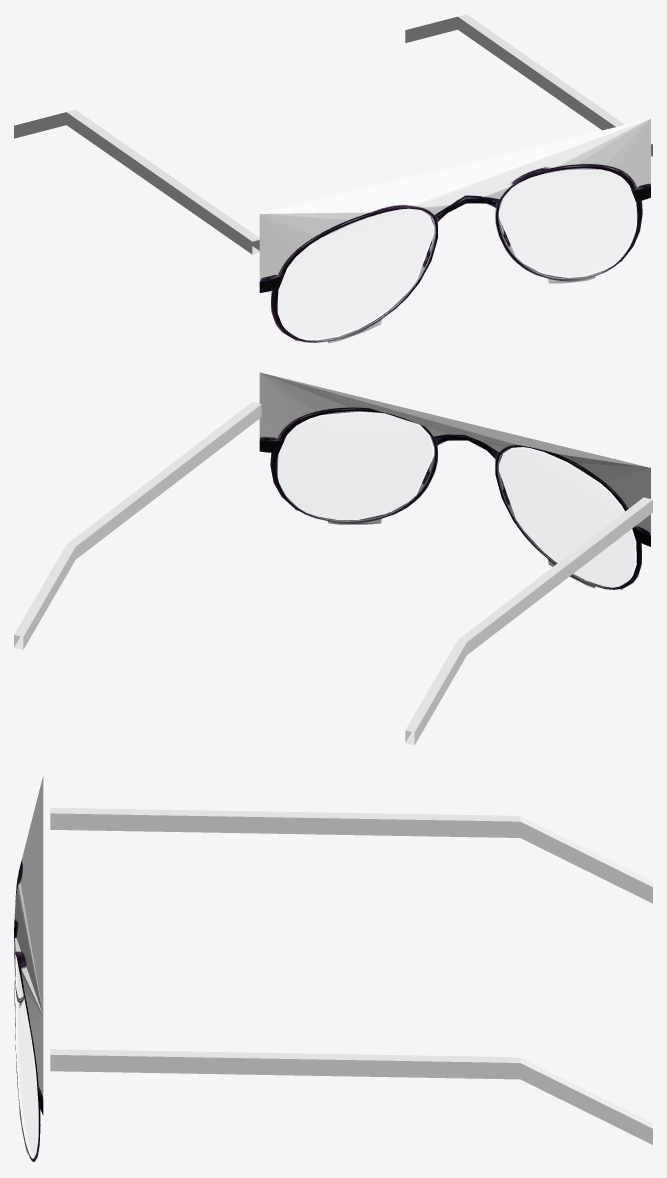
File: gothamstyle-stainless-31_black.glb
3 views of the same model, one above another, from view 1: azimuth 30°, elevation 25°; view 2: azimuth 150°, elevation 25°; view 3: azimuth 270°, elevation 25° (orthographic). The views are drawn at different scales.
Visible parts, largest first — view 1: frame_front, temple_viewer_left, temple_viewer_right; view 2: frame_front, temple_viewer_left, temple_viewer_right; view 3: temple_viewer_right, temple_viewer_left, frame_front.
Part boxes in pixels (<box>): frame_front: <box>259,118,650,343</box>; temple_viewer_left: <box>14,110,259,254</box>; temple_viewer_right: <box>405,14,652,157</box>; frame_front: <box>259,372,650,589</box>; temple_viewer_left: <box>405,497,652,745</box>; temple_viewer_right: <box>14,402,261,649</box>; temple_viewer_right: <box>50,1049,652,1144</box>; temple_viewer_left: <box>50,807,652,903</box>; frame_front: <box>14,776,43,1162</box>.
Bounding box in the file's own units: 0.129 × 0.0432 × 0.141.
Materials: 3 (2 with a texture image).
